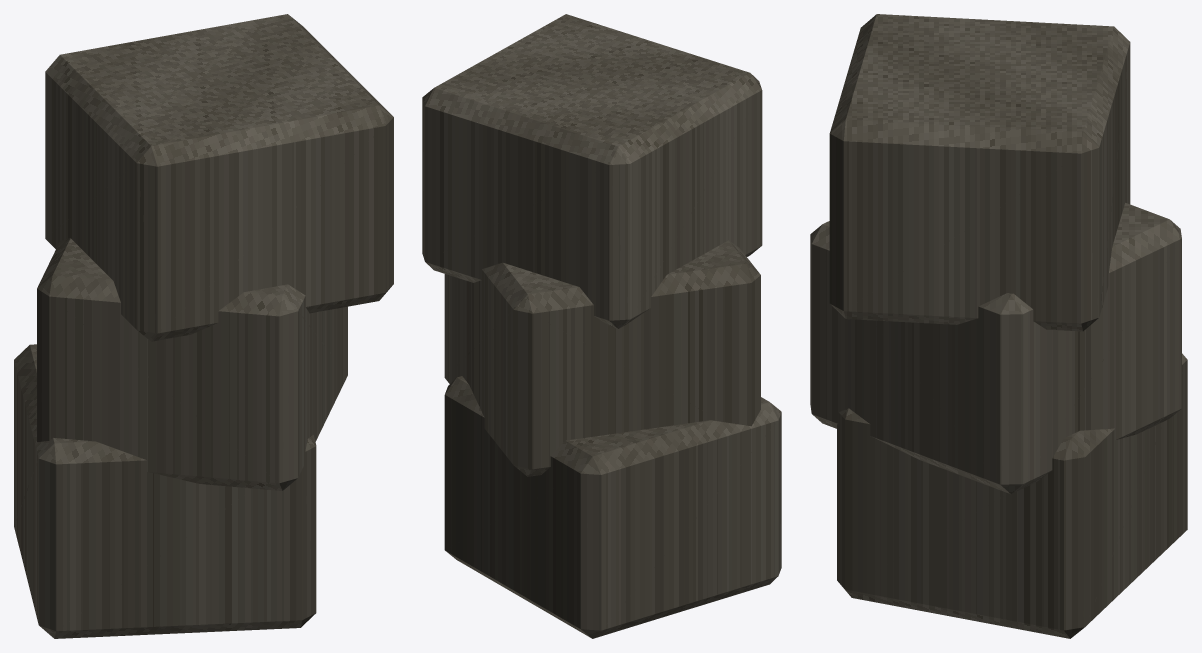
File: env_rocks_13_broken_pillar.glb
The picture shows the model from 3 angles, left to right: view 1: azimuth 30°, elevation 25°; view 2: azimuth 150°, elevation 25°; view 3: azimuth 270°, elevation 25°; orthographic projection. The views are drawn at different scales.
Visible parts, largest first — view 1: solid; view 2: solid; view 3: solid.
Boxes of the visible parts, x1,y1,x2,y2 form: solid: [14, 14, 393, 638]; solid: [422, 14, 781, 638]; solid: [810, 14, 1187, 638].
Bounding box in the file's own units: 0.5977 × 0.88 × 0.5834.
Materials: 1 (1 with a texture image).
